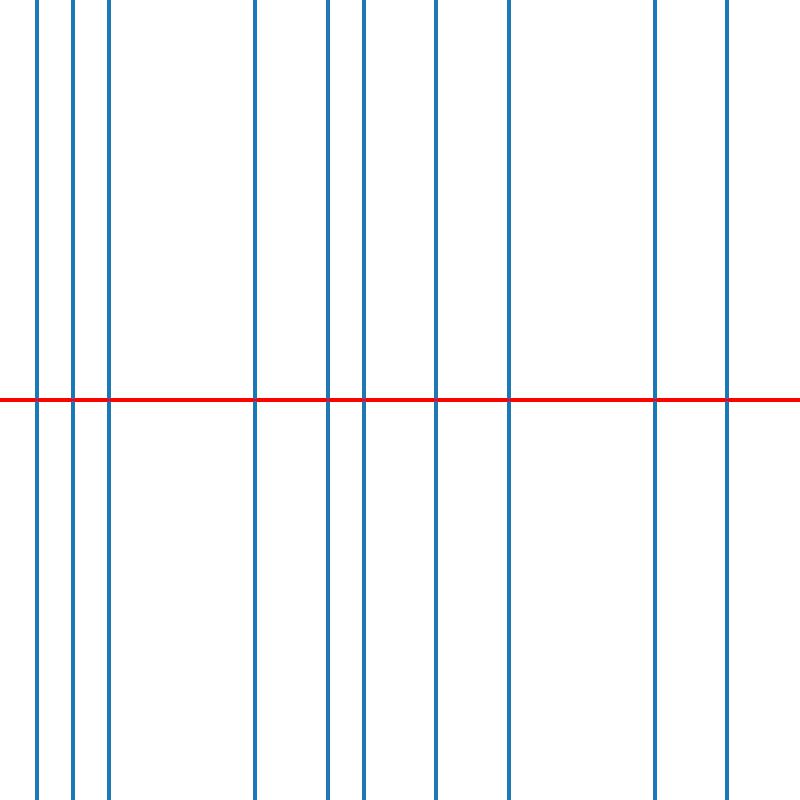root: (250, 396, 258, 404), (432, 396, 440, 404), (32, 396, 40, 404), (650, 396, 658, 404), (723, 396, 730, 404), (323, 396, 330, 404), (69, 396, 76, 404), (360, 396, 367, 404), (505, 396, 512, 404), (105, 396, 112, 404)
